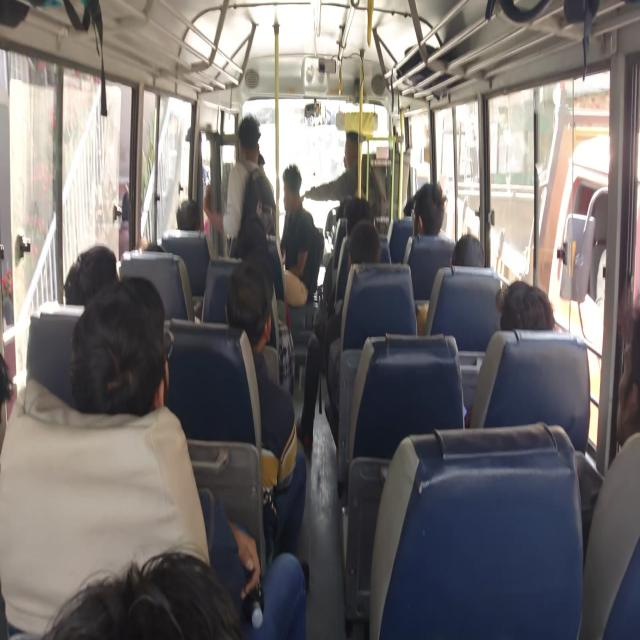person: (43, 545, 279, 640), (75, 307, 175, 421), (505, 272, 565, 340), (232, 272, 293, 334), (620, 304, 640, 481), (68, 241, 128, 299), (452, 226, 494, 281), (233, 212, 273, 258), (238, 120, 272, 167), (417, 180, 448, 231), (178, 193, 206, 244), (350, 232, 390, 262), (346, 198, 388, 224), (285, 170, 312, 208), (403, 192, 421, 221)
